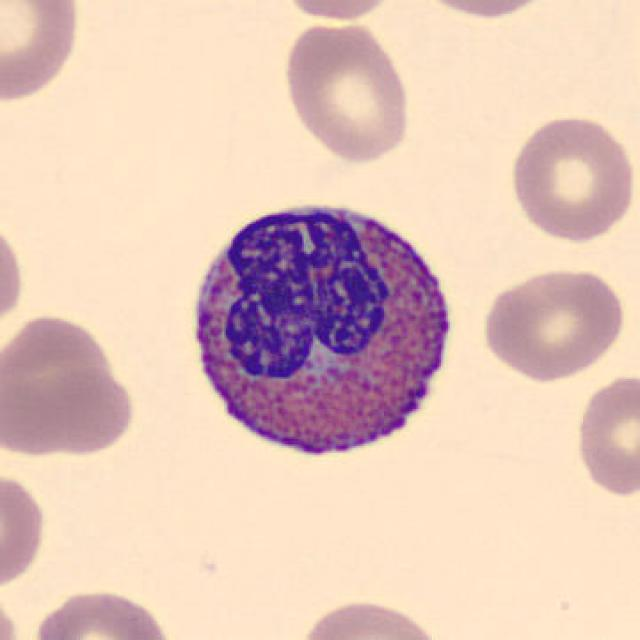Eosinophil: (176, 184, 469, 482)
RBC: (277, 16, 416, 166), (0, 310, 135, 460), (478, 263, 630, 384), (505, 111, 636, 245), (39, 364, 141, 458), (0, 0, 85, 107), (571, 370, 638, 501), (28, 585, 176, 640), (292, 594, 448, 640), (0, 468, 52, 592), (0, 213, 28, 338), (272, 0, 407, 25), (405, 0, 562, 21), (0, 587, 25, 640)
